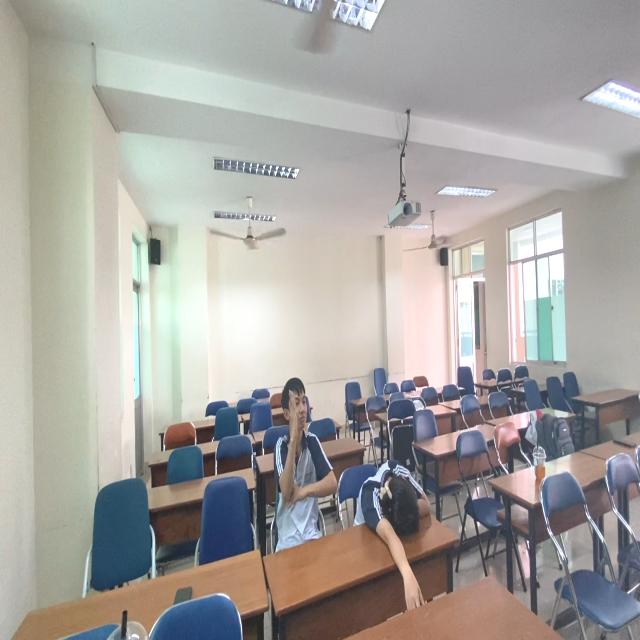raise_hand: (270, 371, 340, 534)
sleep: (356, 458, 437, 560)
